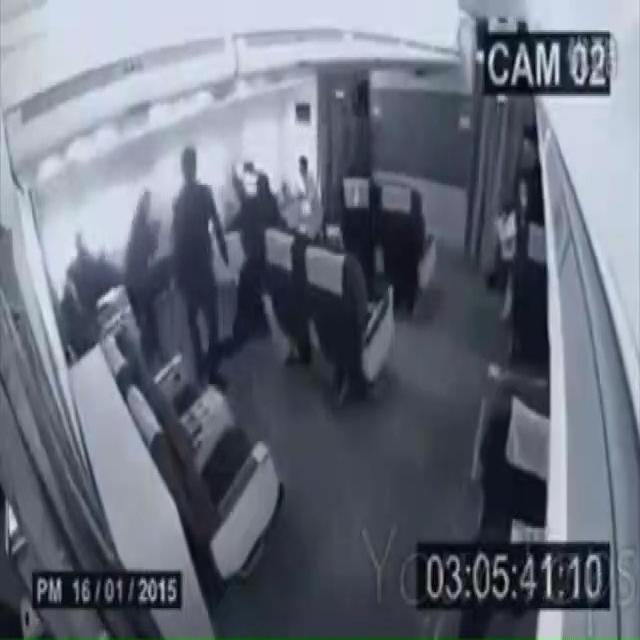fight: (171, 142, 282, 382)
